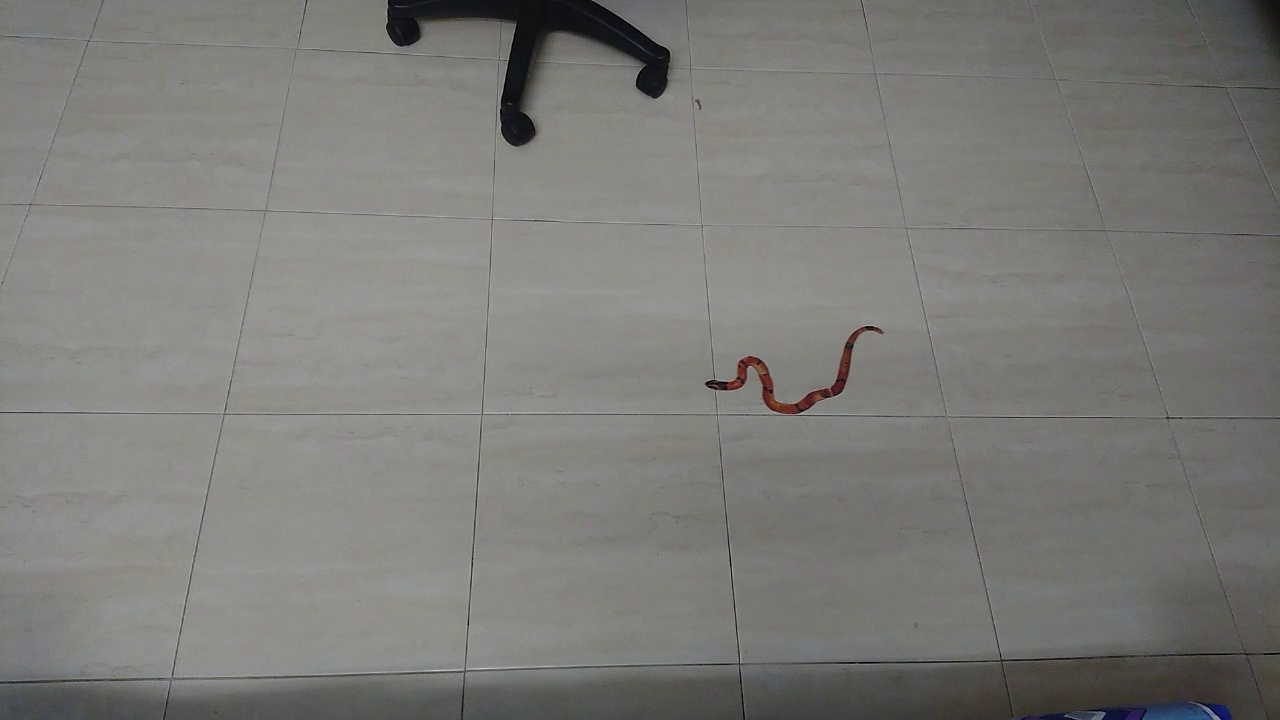snake: (687, 310, 895, 433)
